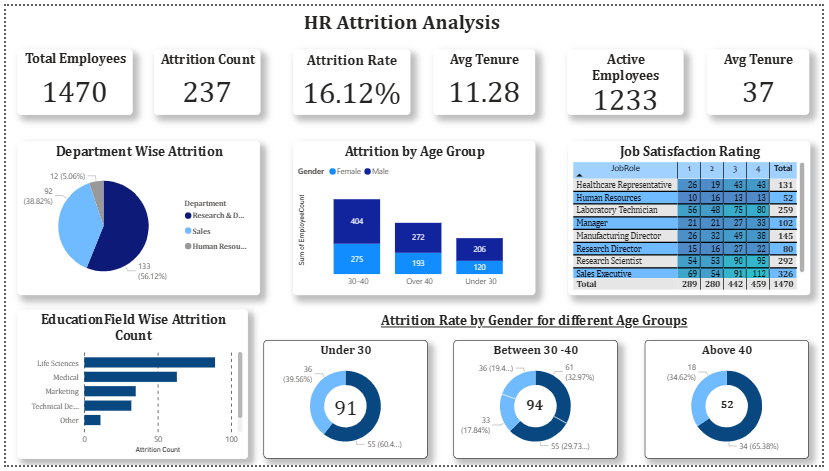

The dashboard page shown, as its layout file describes it:
{"tool":"powerbi","page":{"name":"Page 1","canvas":[1280,720],"ordinal":0},"visuals":[{"type":"card","title":"Total Employees","fields":{"Values":["CleanedData.Total Employees"]},"box":[18.6,68.6,180,102.9],"z":0},{"type":"card","title":"Attrition Count","fields":{"Values":["CleanedData.Attrition Count"]},"box":[231.4,68.6,167.1,102.9],"z":1000},{"type":"card","title":"Attrition Rate","fields":{"Values":["CleanedData.Attrition Rate"]},"box":[450,68.6,184.3,102.9],"z":2000},{"type":"card","title":"Avg Tenure","fields":{"Values":["CleanedData.Avg Tenure"]},"box":[670,68.6,160,102.9],"z":3000},{"type":"card","title":"Active Employees","fields":{"Values":["CleanedData.Active Employees"]},"box":[880,68.6,182.9,102.9],"z":4000},{"type":"card","title":"Avg Tenure","fields":{"Values":["CleanedData.Average Age"]},"box":[1100,68.6,160,102.9],"z":5000},{"type":"pieChart","title":"Department Wise Attrition ","fields":{"Category":["CleanedData.Department"],"Y":["CleanedData.Attrition Count"]},"box":[18.6,211.4,380,241.4],"z":6000},{"type":"columnChart","title":"Attrition by Age Group","fields":{"Category":["CleanedData.AgeGroup"],"Y":["Sum(CleanedData.EmployeeCount)"],"Series":["CleanedData.Gender"]},"box":[450,211.4,380,241.4],"z":7000},{"type":"pivotTable","title":"Job Satisfaction Rating","fields":{"Rows":["CleanedData.JobRole"],"Columns":["CleanedData.JobSatisfaction"],"Values":["Sum(CleanedData.EmployeeCount)"]},"box":[881,211.1,379.5,241.3],"z":8000},{"type":"barChart","title":"EducationField Wise Attrition Count ","fields":{"Category":["CleanedData.EducationField"],"Y":["CleanedData.Attrition Count"]},"box":[18.6,475.7,361.4,234.3],"z":9000},{"type":"donutChart","title":" Under 30","fields":{"Category":["CleanedData.Gender"],"Y":["CleanedData.Attrition Count"],"Series":["CleanedData.AgeGroup"]},"box":[404.3,524.3,257.1,185.7],"z":10000},{"type":"textbox","box":[398.6,475.7,861.4,37.1],"z":11000},{"type":"donutChart","title":"Between 30 -40","fields":{"Category":["CleanedData.Gender"],"Y":["CleanedData.Attrition Count"],"Series":["CleanedData.AgeGroup"]},"box":[701.4,524.3,257.1,185.7],"z":12000},{"type":"donutChart","title":"Above 40","fields":{"Category":["CleanedData.Gender"],"Y":["CleanedData.Attrition Count"],"Series":["CleanedData.AgeGroup"]},"box":[1002.9,524.3,257.1,185.7],"z":13000},{"type":"card","fields":{"Values":["CleanedData.Attrition Count"]},"box":[507.1,601.4,51.4,52.9],"z":14000},{"type":"card","fields":{"Values":["CleanedData.Attrition Count"]},"box":[804.3,600,51.4,52.9],"z":15000},{"type":"card","fields":{"Values":["CleanedData.Attrition Count"]},"box":[1105.7,600,51.4,52.9],"z":16000},{"type":"textbox","box":[462.9,0,341.4,57.1],"z":17000}]}

Visuals, with their boxes in screenshot pixels (x1, y1, x2, y2), scaled from the page's 1280x720 canvas onto the 829x471 screenshot:
"Total Employees" card: locate(12, 45, 129, 112)
"Attrition Count" card: locate(150, 45, 258, 112)
"Attrition Rate" card: locate(291, 45, 411, 112)
"Avg Tenure" card: locate(434, 45, 538, 112)
"Active Employees" card: locate(570, 45, 688, 112)
"Avg Tenure" card: locate(712, 45, 816, 112)
"Department Wise Attrition " pieChart: locate(12, 138, 258, 296)
"Attrition by Age Group" columnChart: locate(291, 138, 538, 296)
"Job Satisfaction Rating" pivotTable: locate(571, 138, 816, 296)
"EducationField Wise Attrition Count " barChart: locate(12, 311, 246, 464)
" Under 30" donutChart: locate(262, 343, 428, 464)
textbox: locate(258, 311, 816, 335)
"Between 30 -40" donutChart: locate(454, 343, 621, 464)
"Above 40" donutChart: locate(650, 343, 816, 464)
card - CleanedData.Attrition Count: locate(328, 393, 362, 428)
card - CleanedData.Attrition Count: locate(521, 392, 554, 427)
card - CleanedData.Attrition Count: locate(716, 392, 749, 427)
textbox: locate(300, 0, 521, 37)
